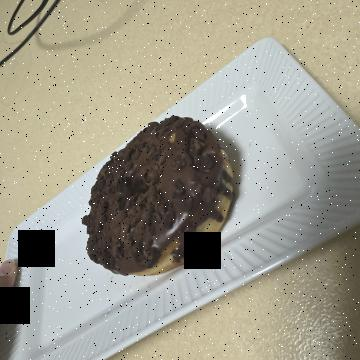doughnut: (114, 108, 293, 289)
